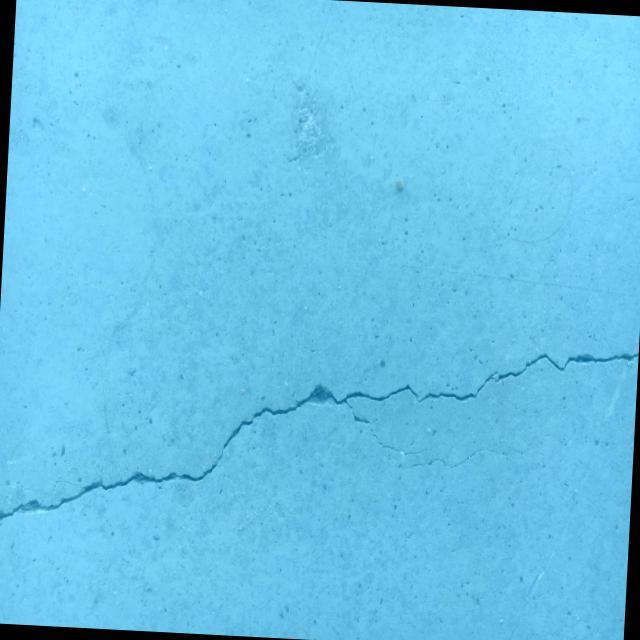crack: (0, 318, 638, 561), (384, 441, 530, 476)
